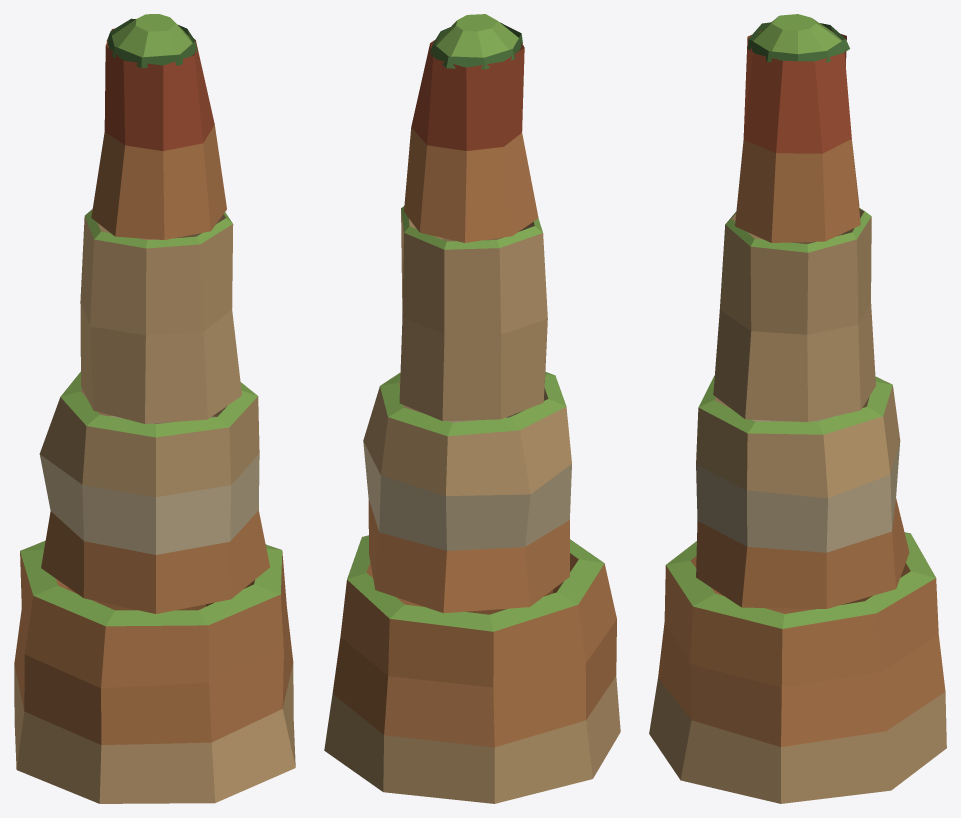
The model's file is rock_spire_a.glb.
3 renders of one model, left to right at view 1: azimuth 30°, elevation 25°; view 2: azimuth 150°, elevation 25°; view 3: azimuth 270°, elevation 25°, orthographic.
Visible parts, largest first — view 1: rock_spire_a; view 2: rock_spire_a; view 3: rock_spire_a.
Boxes of the visible parts, left/top/right/bottom form: rock_spire_a: left=14, top=14, right=295, bottom=803; rock_spire_a: left=324, top=14, right=620, bottom=803; rock_spire_a: left=649, top=14, right=946, bottom=803.
Bounding box in the file's own units: 11.92 × 31.7 × 11.92.
